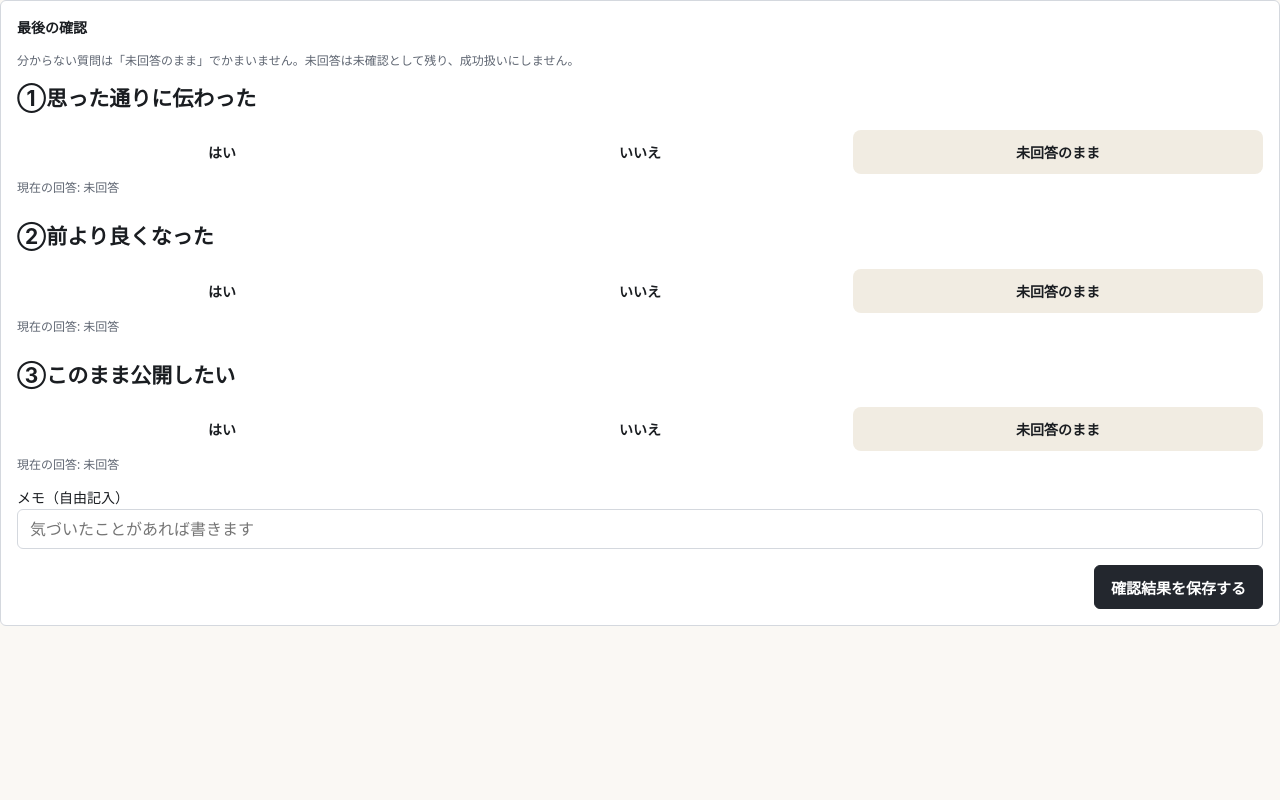
Test: SelfCheckSection — 正直な失敗表示 › 送信失敗は理由を表示し、送信しましたを出さない
Click the button with test id "self-check-submit": click(1178, 587) [1094,565,1263,609]
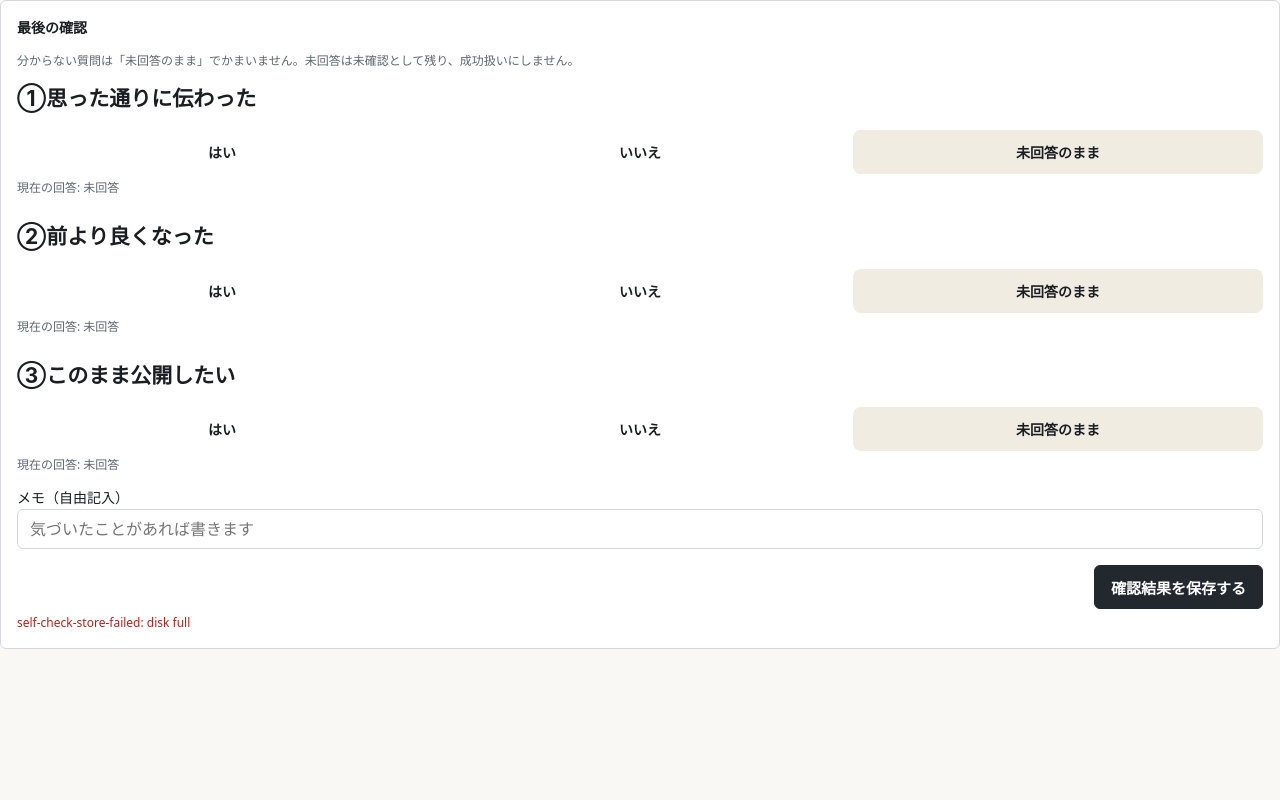
Expected: the message with test id "self-check-error" shows "self-check-store-failed", [17,614,140,631]
